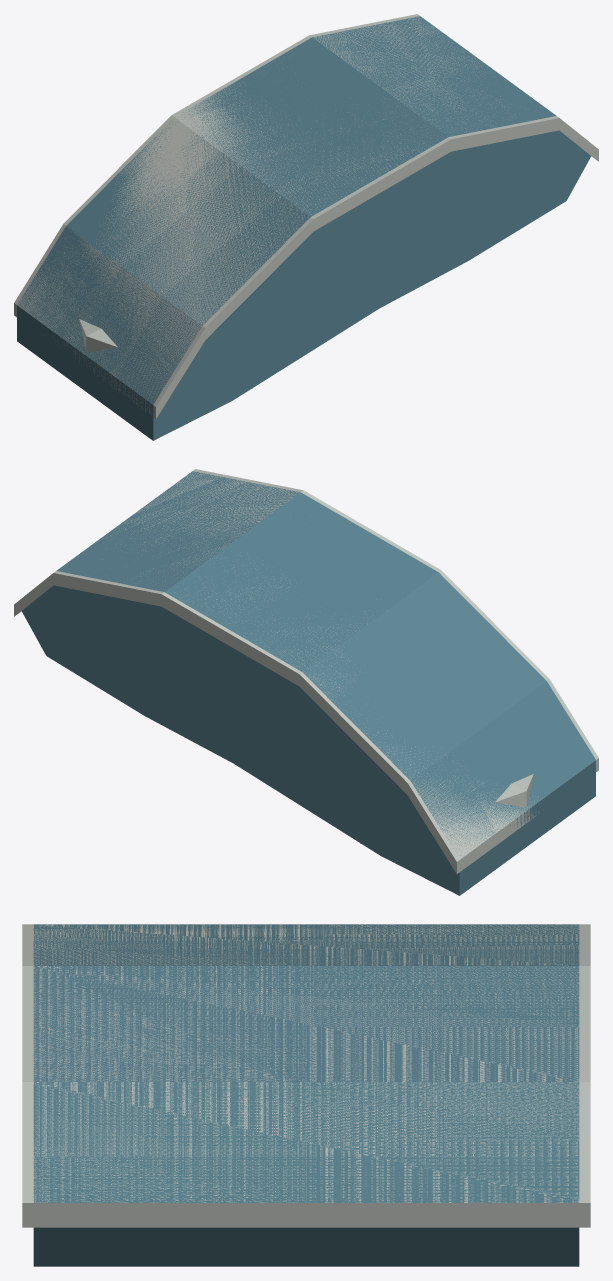
The model's file is Environment_Feature_Snow_SnowWave_001_LOD1.glb.
3 views of the same model, one above another, from view 1: azimuth 30°, elevation 25°; view 2: azimuth 150°, elevation 25°; view 3: azimuth 270°, elevation 25° (orthographic). The views are drawn at different scales.
Visible parts, largest first — view 1: Environment_Feature_Snow_SnowWave_001_LOD1; view 2: Environment_Feature_Snow_SnowWave_001_LOD1; view 3: Environment_Feature_Snow_SnowWave_001_LOD1.
Part boxes in pixels (<box>): Environment_Feature_Snow_SnowWave_001_LOD1: <box>14,14,598,440</box>; Environment_Feature_Snow_SnowWave_001_LOD1: <box>14,469,598,895</box>; Environment_Feature_Snow_SnowWave_001_LOD1: <box>22,924,590,1266</box>.
Size of the model in its own units: 4.5 by 2.26 by 2.5.
